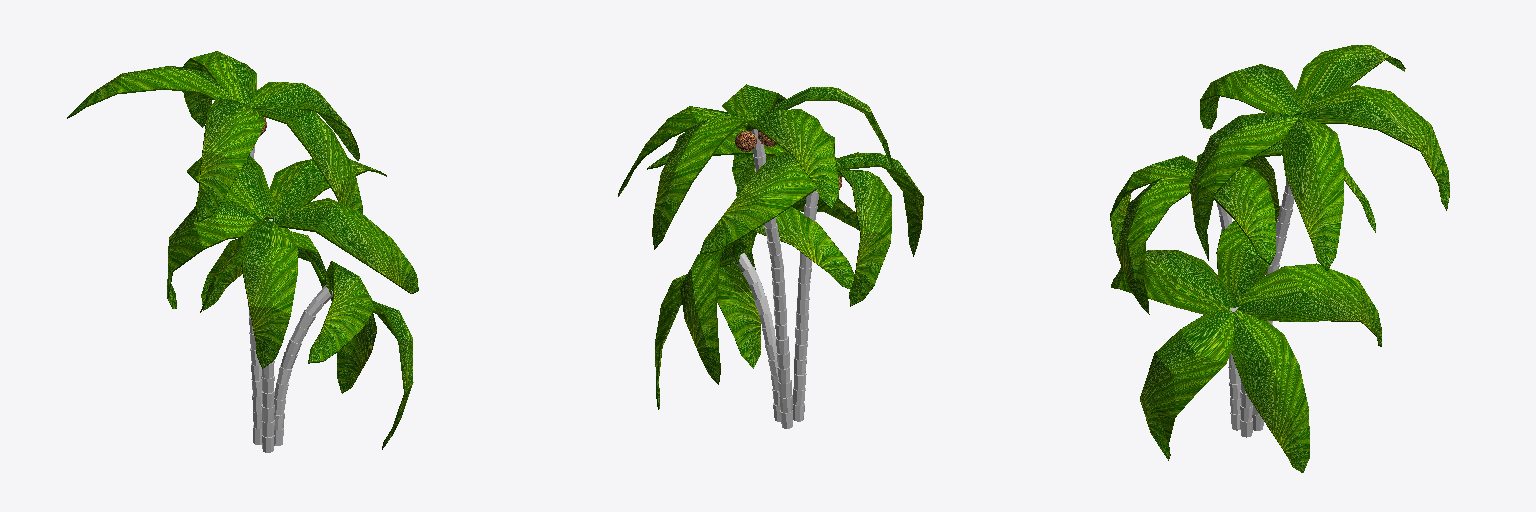
The picture shows the model from 3 angles: view 1: azimuth 30°, elevation 25°; view 2: azimuth 150°, elevation 25°; view 3: azimuth 270°, elevation 25°; orthographic projection.
Visible parts, largest first — view 1: triple_tree; view 2: triple_tree; view 3: triple_tree.
Boxes of the visible parts, x1,y1,x2,y2 form: triple_tree: [67, 51, 418, 452]; triple_tree: [618, 84, 923, 428]; triple_tree: [1110, 45, 1449, 472].
Size of the model in its own units: 5.7 by 7.62 by 6.64.
3 materials, 2 textured.